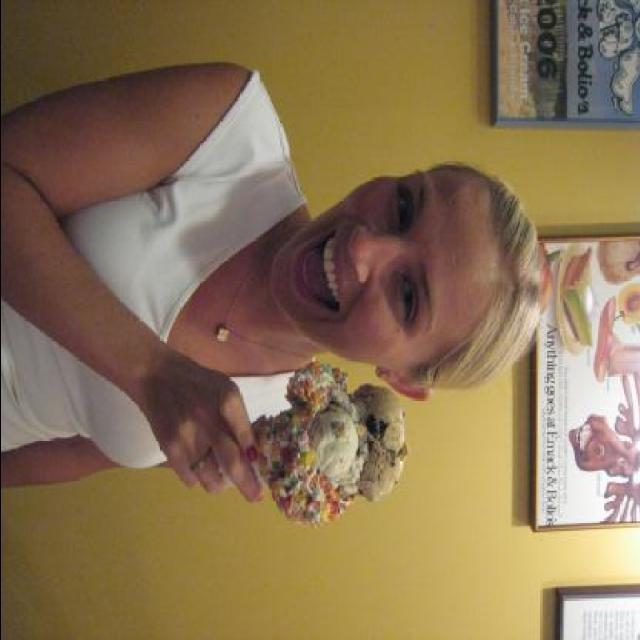Ice cream: (232, 354, 410, 538)
